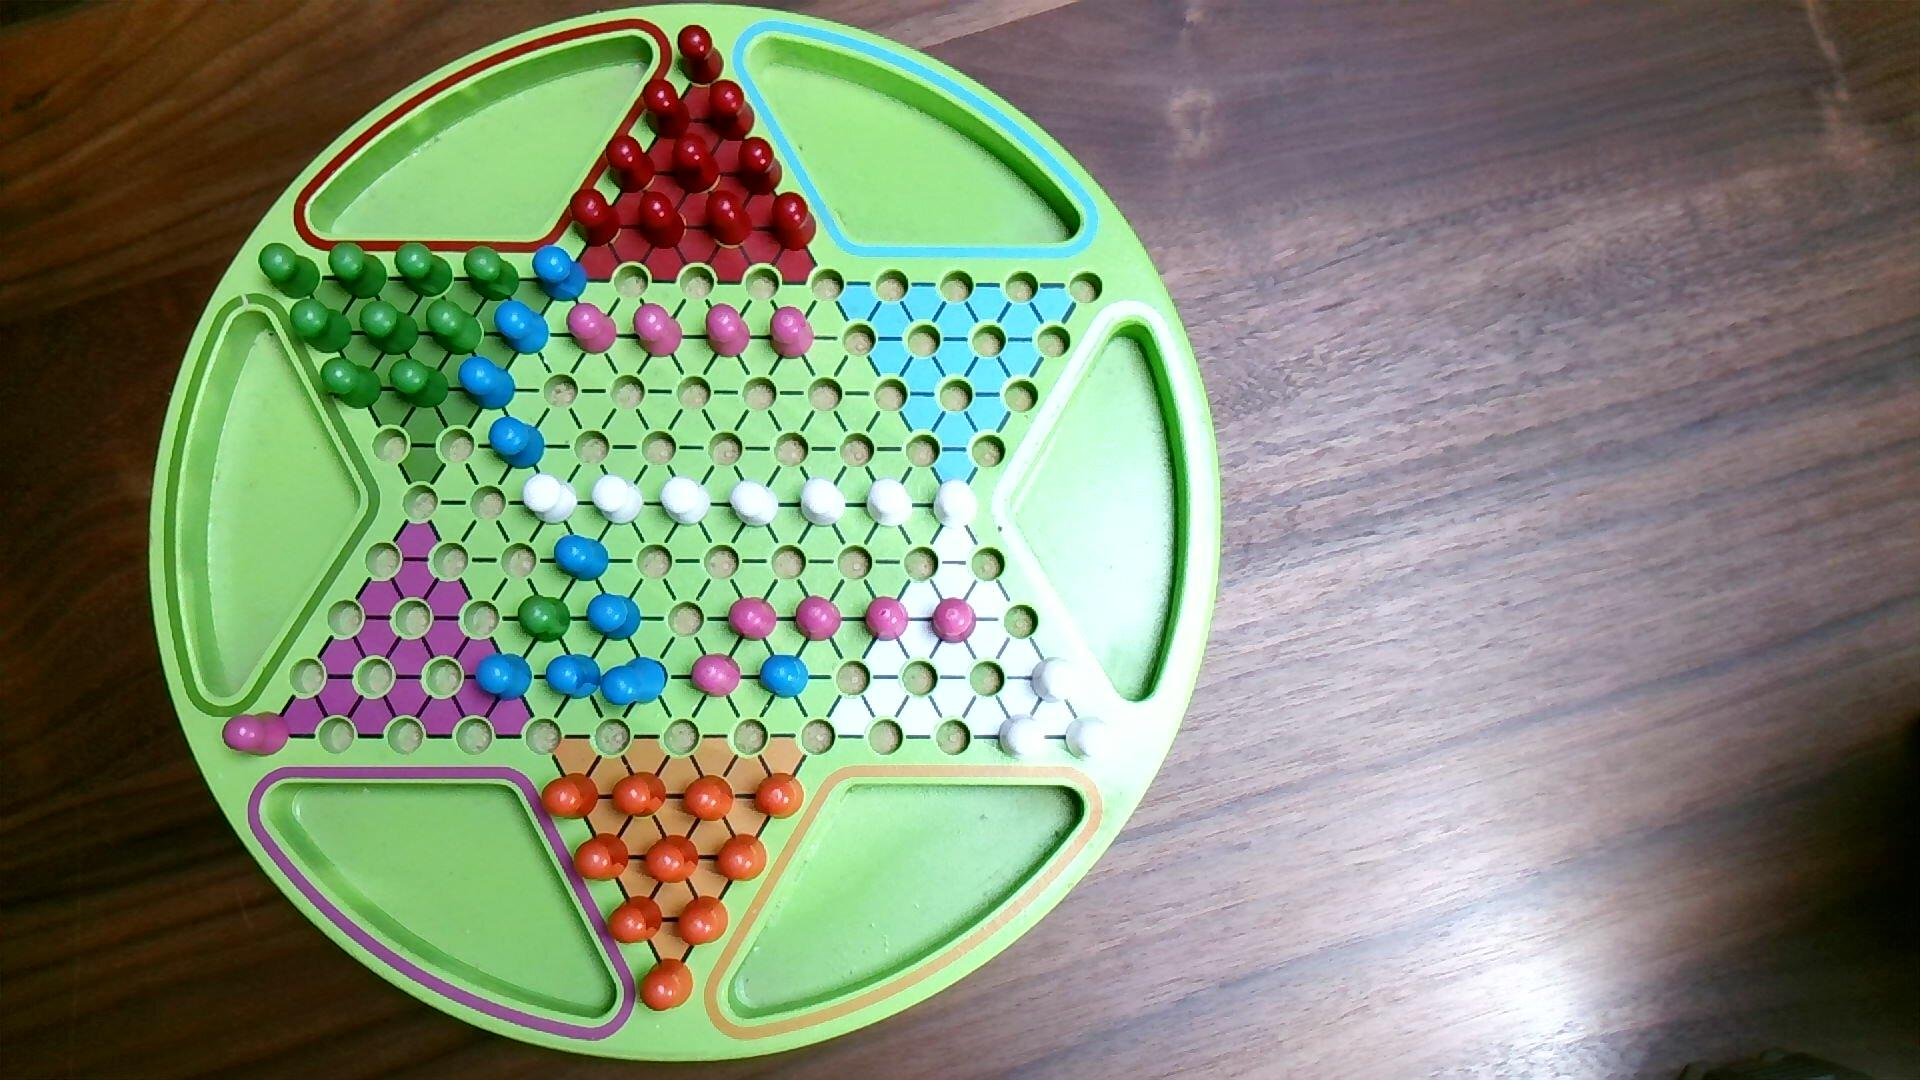B: (600, 654, 673, 709), (530, 241, 589, 305), (456, 353, 518, 413), (488, 414, 549, 472), (471, 650, 535, 704), (495, 298, 553, 357), (551, 531, 615, 584), (545, 651, 607, 703), (585, 591, 644, 644), (757, 651, 812, 702)
G: (289, 294, 356, 357), (326, 239, 390, 303), (257, 239, 324, 301), (393, 239, 458, 301), (357, 298, 422, 359), (425, 294, 485, 359), (319, 353, 385, 413), (462, 243, 524, 305), (386, 357, 454, 411), (517, 592, 574, 647)
O: (604, 891, 666, 948), (638, 955, 698, 1013), (538, 770, 603, 823), (571, 831, 632, 884), (713, 829, 770, 884), (644, 832, 702, 885), (611, 770, 670, 822), (676, 893, 731, 948), (680, 771, 737, 824), (750, 770, 808, 822)
R: (640, 74, 695, 142), (669, 129, 723, 199), (568, 182, 624, 249), (675, 21, 728, 90), (636, 189, 692, 252), (605, 131, 659, 196), (705, 76, 758, 144), (704, 187, 760, 251), (769, 190, 820, 255), (737, 135, 787, 199)
R2: (220, 709, 294, 760), (632, 301, 687, 363), (566, 301, 620, 357), (704, 301, 753, 361), (767, 305, 818, 363), (727, 593, 781, 644), (928, 593, 978, 647), (688, 651, 742, 700), (795, 593, 845, 644), (862, 593, 913, 644)
W: (521, 471, 582, 529), (591, 471, 647, 529), (1030, 653, 1087, 707), (658, 473, 713, 527), (1064, 715, 1121, 767), (866, 475, 918, 531), (996, 712, 1050, 765), (930, 477, 982, 531), (728, 477, 782, 529), (799, 473, 848, 530)
